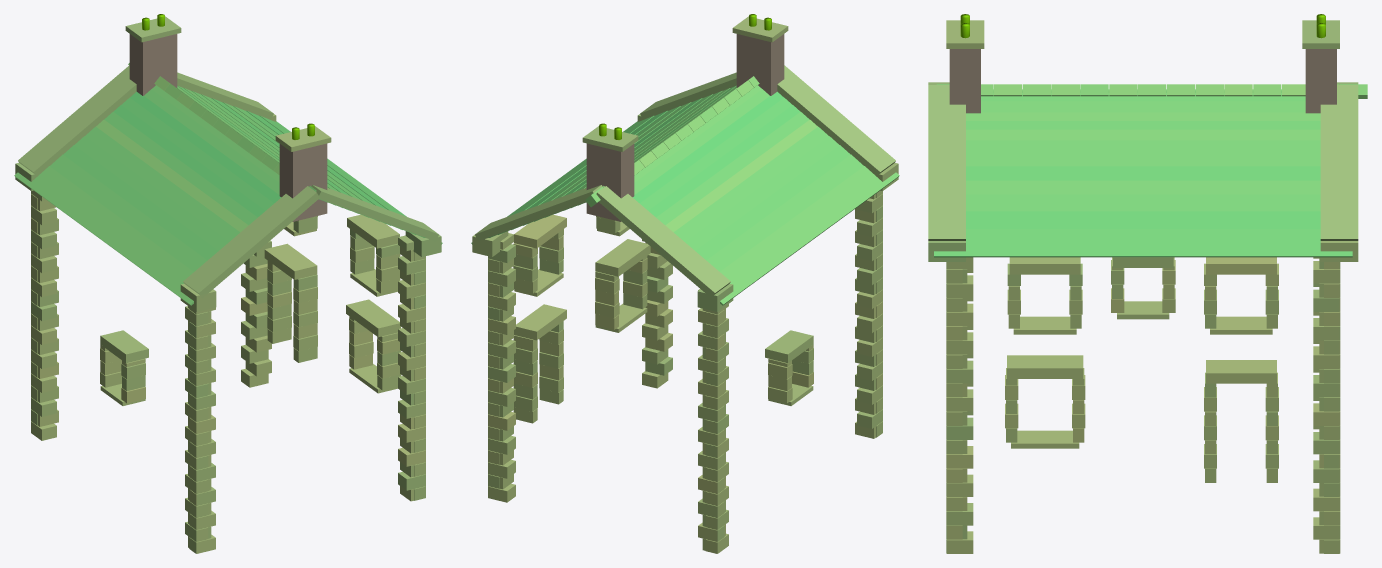
File: SM_Bld_086_Stone.glb
The picture shows the model from 3 angles, left to right: view 1: azimuth 30°, elevation 25°; view 2: azimuth 150°, elevation 25°; view 3: azimuth 270°, elevation 25°; orthographic projection. The views are drawn at different scales.
Parts seen in each view (by area): view 1: SM_Bld_086_Stone; view 2: SM_Bld_086_Stone; view 3: SM_Bld_086_Stone.
Part boxes in pixels (x1,y1,x2,y2): SM_Bld_086_Stone: (14, 14, 442, 553); SM_Bld_086_Stone: (471, 14, 899, 553); SM_Bld_086_Stone: (928, 14, 1367, 553).
Size of the model in its own units: 6.61 by 9.84 by 8.4.
